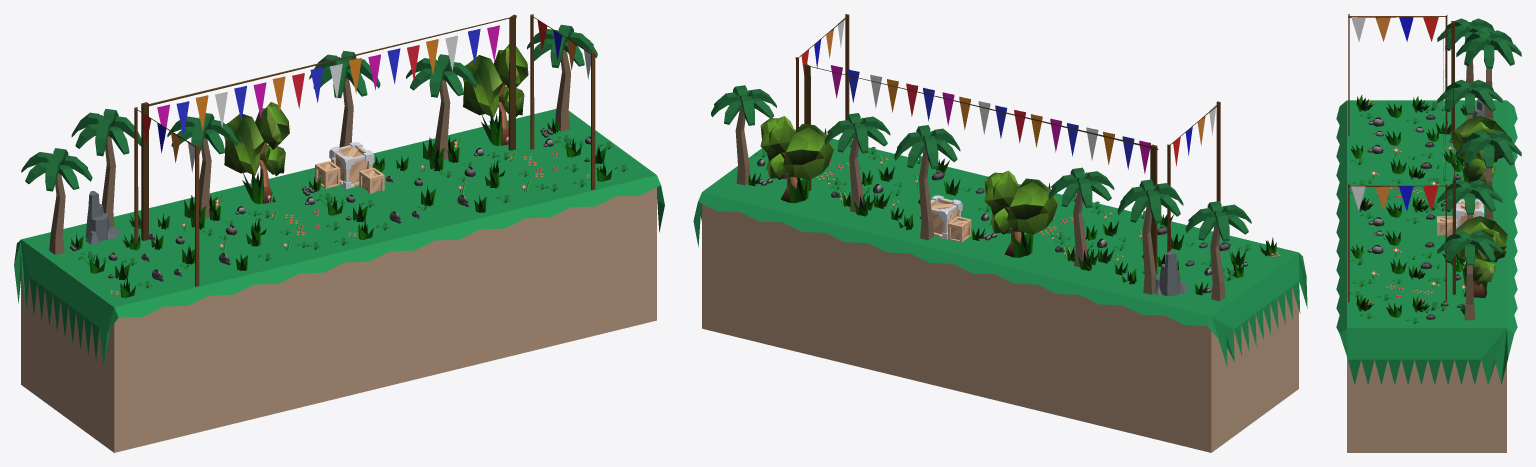
Rendered from palo sebo platform.glb.
3 renders of one model, left to right at view 1: azimuth 30°, elevation 25°; view 2: azimuth 150°, elevation 25°; view 3: azimuth 270°, elevation 25°, orthographic. The views are drawn at different scales.
Visible parts, largest first — view 1: blockLarge.019, Cube.001, Cube.462, Cube.430, Cube.005, Cube.002, Group 154.052, Group 154.002, Group 154.044, Group 154.047, crateStrong.001, Group 154.001 (+8 smaller); view 2: blockLarge.019, Cube.001, Cube.430, Cube.462, Group 154.052, Group 154.049, Group 154.047, Group 154.044, Group 154.002, Group 154.001, Cube.005, Cube.002 (+8 smaller); view 3: blockLarge.019, Cube.430, Cube.005, Cube.462, Group 154.049, Group 154.052, Cube.002, Group 154.001, Group 154.047, Group 154.044, Cube.001, Group 154.002 (+3 smaller).
Boxes of the visible parts, x1=… form: blockLarge.019: x1=14, y1=109, x2=664, y2=452; Cube.001: x1=141, y1=14, x2=516, y2=240; Cube.462: x1=224, y1=102, x2=289, y2=204; Cube.430: x1=463, y1=44, x2=528, y2=146; Cube.005: x1=134, y1=107, x2=199, y2=286; Cube.002: x1=530, y1=14, x2=595, y2=190; Group 154.052: x1=71, y1=109, x2=141, y2=156; Group 154.002: x1=21, y1=148, x2=92, y2=191; Group 154.044: x1=406, y1=54, x2=476, y2=97; Group 154.047: x1=167, y1=113, x2=238, y2=154; crateStrong.001: x1=329, y1=142, x2=374, y2=189; Group 154.001: x1=527, y1=24, x2=597, y2=68; blockLarge.019: x1=693, y1=129, x2=1307, y2=452; Cube.001: x1=804, y1=63, x2=1158, y2=274; Cube.430: x1=760, y1=116, x2=833, y2=203; Cube.462: x1=984, y1=170, x2=1057, y2=257; Group 154.052: x1=1117, y1=179, x2=1183, y2=223; Group 154.049: x1=894, y1=125, x2=960, y2=169; Group 154.047: x1=1048, y1=167, x2=1114, y2=208; Group 154.044: x1=824, y1=113, x2=890, y2=153; Group 154.002: x1=1185, y1=201, x2=1251, y2=241; Group 154.001: x1=711, y1=85, x2=776, y2=125; Cube.005: x1=1167, y1=101, x2=1220, y2=252; Cube.002: x1=795, y1=14, x2=849, y2=178; blockLarge.019: x1=1336, y1=100, x2=1517, y2=452; Cube.430: x1=1456, y1=216, x2=1507, y2=297; Cube.005: x1=1348, y1=14, x2=1447, y2=136; Cube.462: x1=1451, y1=116, x2=1507, y2=183; Group 154.049: x1=1456, y1=130, x2=1521, y2=168; Group 154.052: x1=1456, y1=30, x2=1521, y2=68; Cube.002: x1=1347, y1=183, x2=1447, y2=302; Group 154.001: x1=1437, y1=230, x2=1502, y2=265; Group 154.047: x1=1437, y1=79, x2=1502, y2=114; Group 154.044: x1=1437, y1=179, x2=1502, y2=214; Cube.001: x1=1443, y1=21, x2=1455, y2=294; Group 154.002: x1=1437, y1=18, x2=1494, y2=50.
Size of the model in its own units: 16.78 by 8.09 by 5.52.
54 materials, 10 textured.
